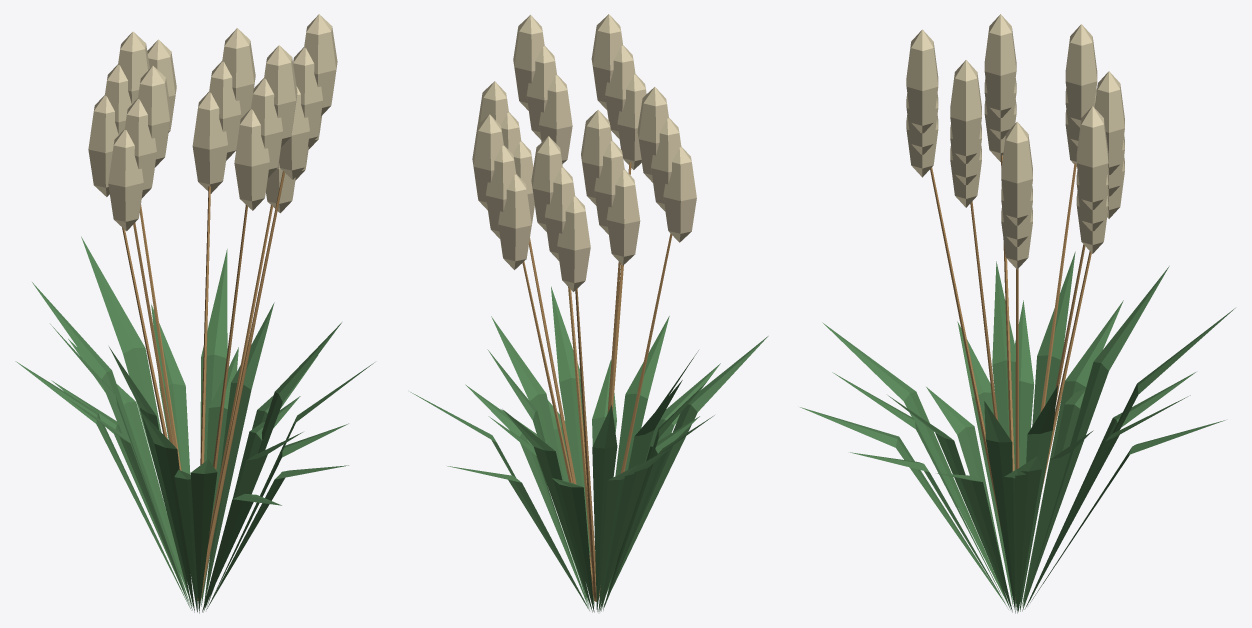
The model's file is b08_maiden_grass.glb.
The picture shows the model from 3 angles, left to right: view 1: azimuth 30°, elevation 25°; view 2: azimuth 150°, elevation 25°; view 3: azimuth 270°, elevation 25°; orthographic projection. The views are drawn at different scales.
Parts seen in each view (by area): view 1: b08_maiden_grass; view 2: b08_maiden_grass; view 3: b08_maiden_grass.
Boxes of the visible parts, x1=… form: b08_maiden_grass: x1=15, y1=14, x2=374, y2=613; b08_maiden_grass: x1=410, y1=14, x2=768, y2=612; b08_maiden_grass: x1=800, y1=14, x2=1235, y2=613.
Size of the model in its own units: 0.9951 by 2.15 by 1.43.
